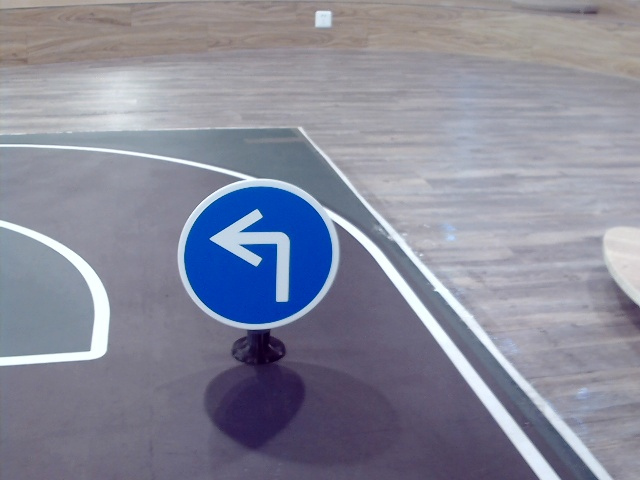turn_left: (206, 209, 304, 305)
